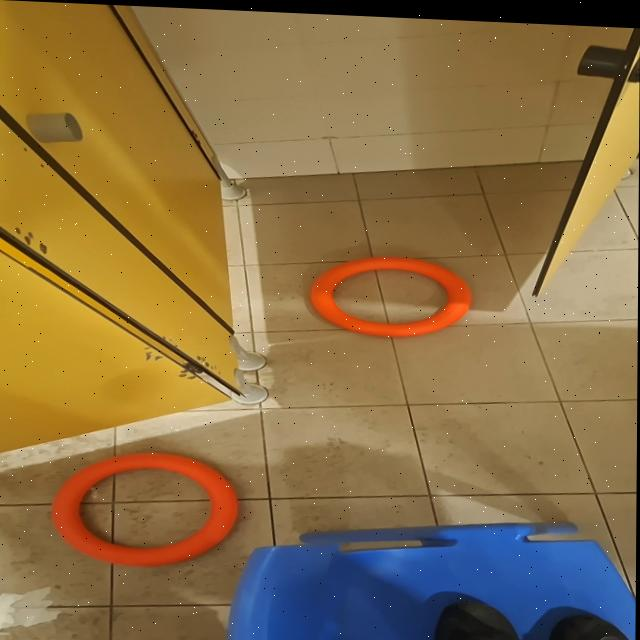note: (51, 446, 241, 570), (309, 248, 475, 337)
